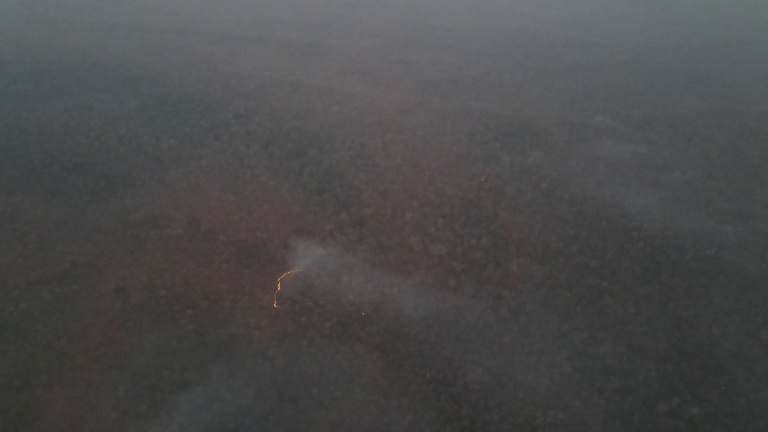fire: (272, 265, 300, 314)
smoke: (286, 232, 410, 306)
